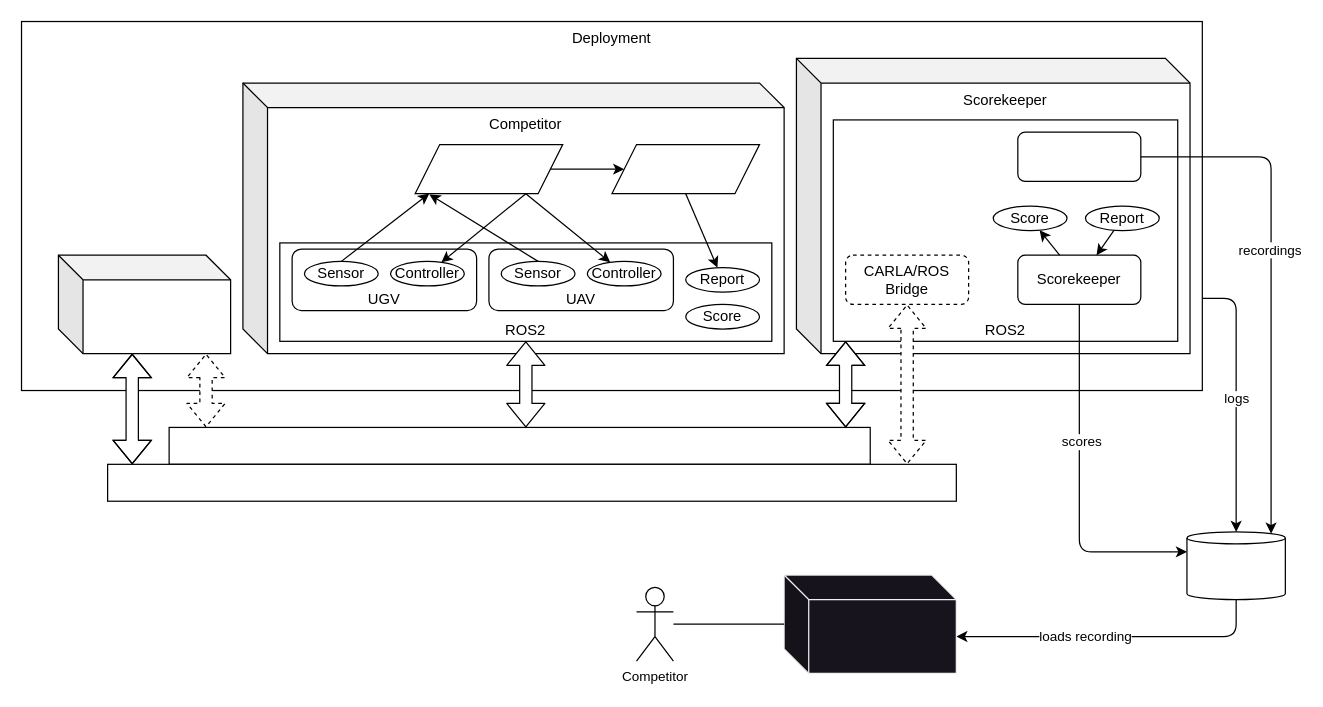
Image size: 1323x707. Some labels were removed from this diagram. Each missing label, with the centre of its shape:
"Autonomy" belongs at (488,168).
"CARLA" belongs at (144,304).
"Container Network" belongs at (531,482).
"Persisted Results" belongs at (1235,565).
"Recorder" belongs at (1079,156).
"Reporter" belongs at (685,168).
"ROS DDS" belongs at (519,445).
"Visualizer" belongs at (869,623).
